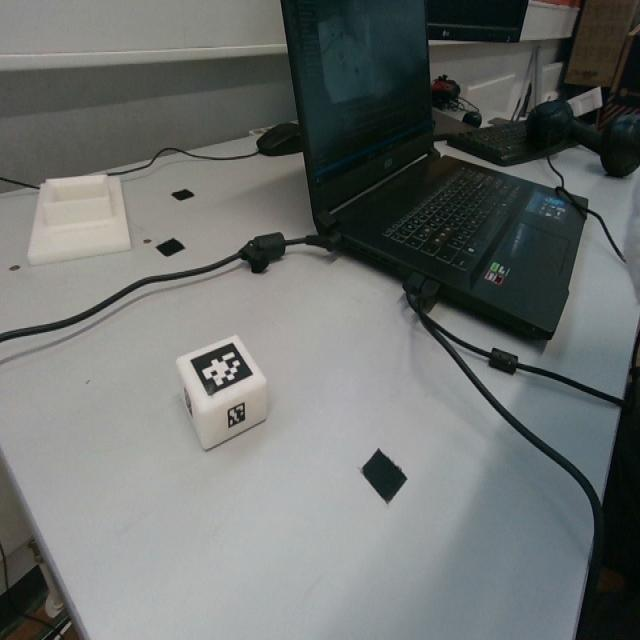Cube: (174, 334, 267, 449)
